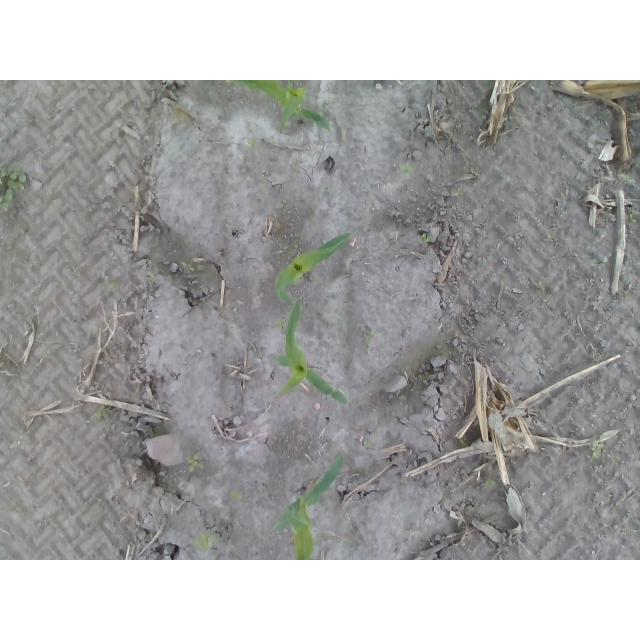Maize: (271, 453, 347, 560), (275, 299, 350, 403), (227, 80, 333, 137), (274, 232, 350, 302)
Weeds: (1, 165, 28, 211), (193, 533, 216, 551), (184, 452, 204, 472), (587, 440, 605, 462), (95, 405, 114, 419), (399, 163, 413, 178), (365, 331, 378, 346), (417, 233, 434, 243), (246, 137, 259, 148), (322, 185, 335, 196), (619, 173, 633, 183), (455, 187, 470, 196), (172, 111, 184, 122), (273, 318, 285, 329), (181, 262, 195, 271), (230, 490, 243, 499), (484, 478, 496, 487), (12, 502, 21, 514), (590, 262, 607, 268), (363, 439, 373, 449), (624, 288, 632, 300), (547, 231, 556, 240), (538, 280, 547, 289), (313, 534, 321, 543), (612, 455, 620, 463), (629, 214, 636, 223), (109, 282, 116, 290), (149, 273, 157, 280)
